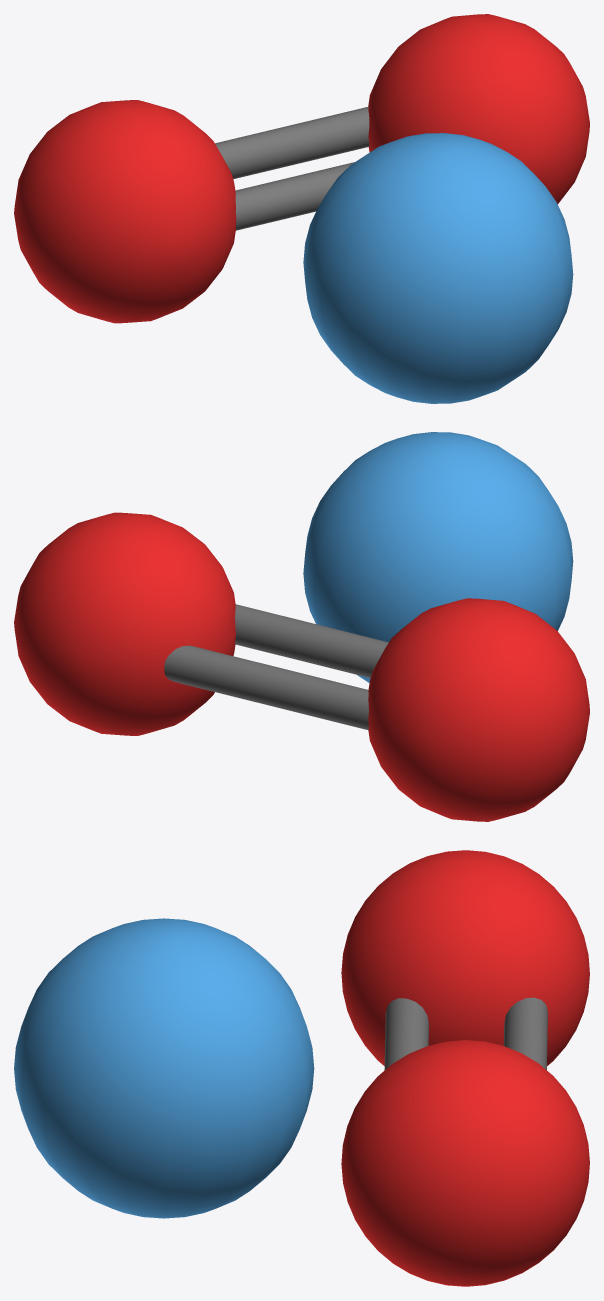
Rendered from NaO2.fbx.
The picture shows the model from 3 angles, top to bottom: view 1: azimuth 30°, elevation 25°; view 2: azimuth 150°, elevation 25°; view 3: azimuth 270°, elevation 25°; orthographic projection. The views are drawn at different scales.
Visible parts, largest first — view 1: NaO2; view 2: NaO2; view 3: NaO2.
Part boxes in pixels (left/top/right/bottom): NaO2: left=14, top=14, right=589, bottom=403; NaO2: left=14, top=432, right=589, bottom=821; NaO2: left=14, top=850, right=589, bottom=1286.
Bounding box in the file's own units: 5.19 × 2.23 × 4.28.
